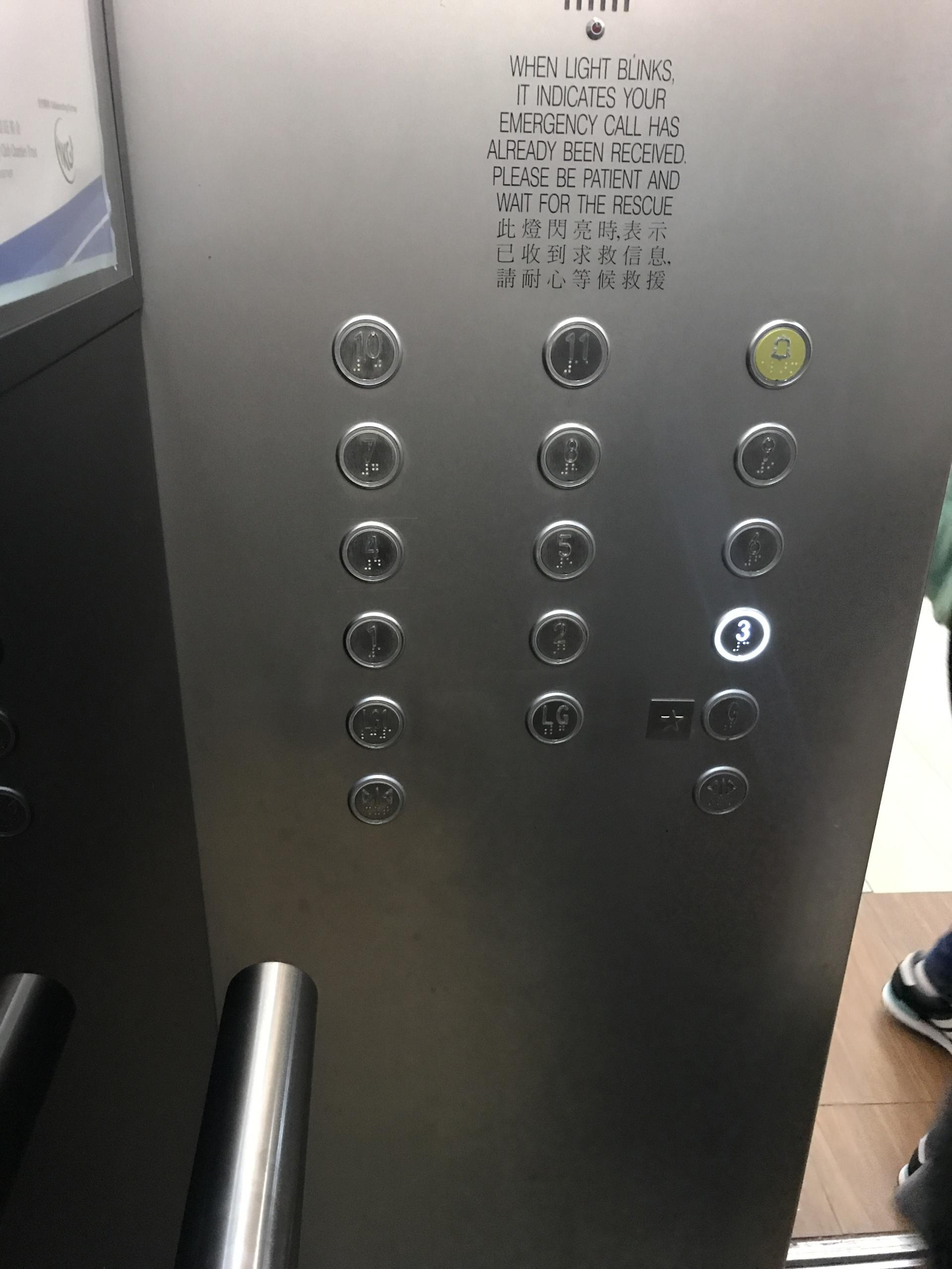1: (341, 608, 406, 670)
10: (329, 313, 404, 389)
11: (541, 315, 611, 389)
2: (528, 607, 590, 667)
3: (710, 604, 773, 664)
4: (336, 518, 405, 584)
5: (531, 517, 596, 582)
6: (721, 516, 785, 580)
7: (333, 419, 406, 490)
8: (536, 419, 602, 490)
9: (733, 419, 799, 489)
G: (699, 687, 761, 743)
alarm: (743, 317, 813, 391)
close: (346, 771, 406, 825)
open: (692, 763, 752, 817)
unknown: (343, 693, 408, 750), (523, 690, 586, 745), (642, 694, 697, 747)
